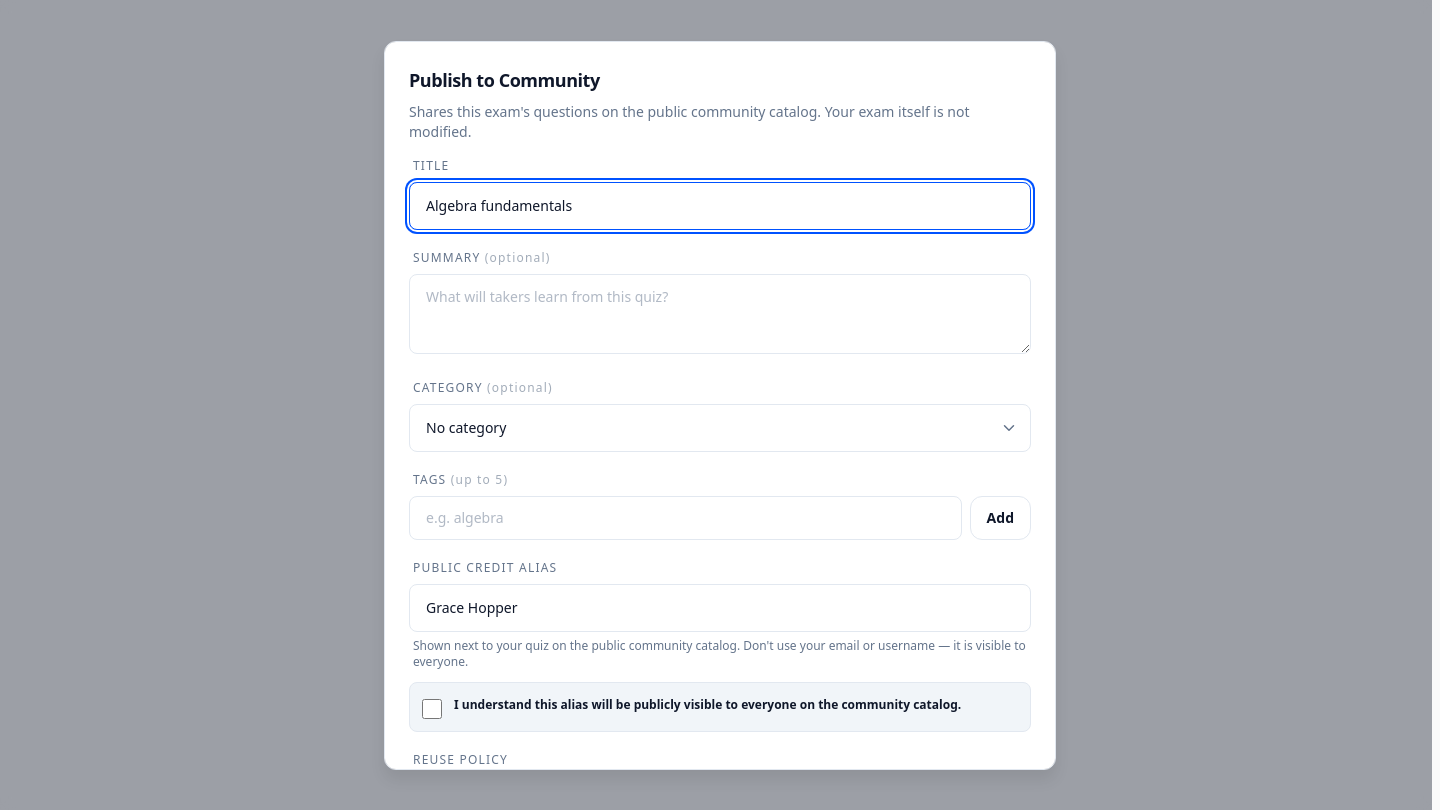
PublishToCommunityDialog › surfaces a publish-step failure and notes the saved-unpublished row
Click the checkbox labelled "publicly visible to everyone" at x=432, y=708, box [422,698,442,718]
(page scrolled)
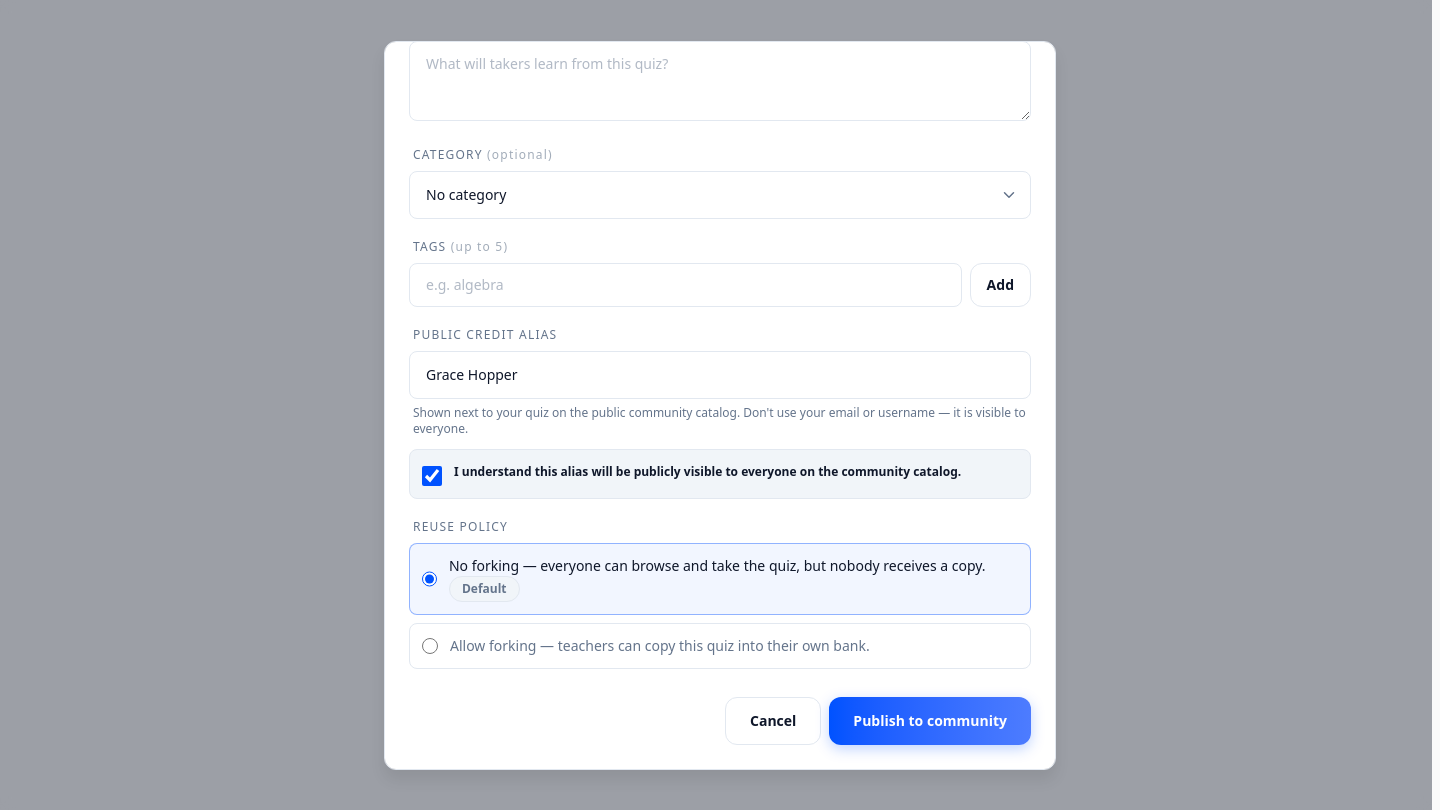
Click the button "Publish to community" at x=930, y=720, box [829,696,1031,744]
(page scrolled)
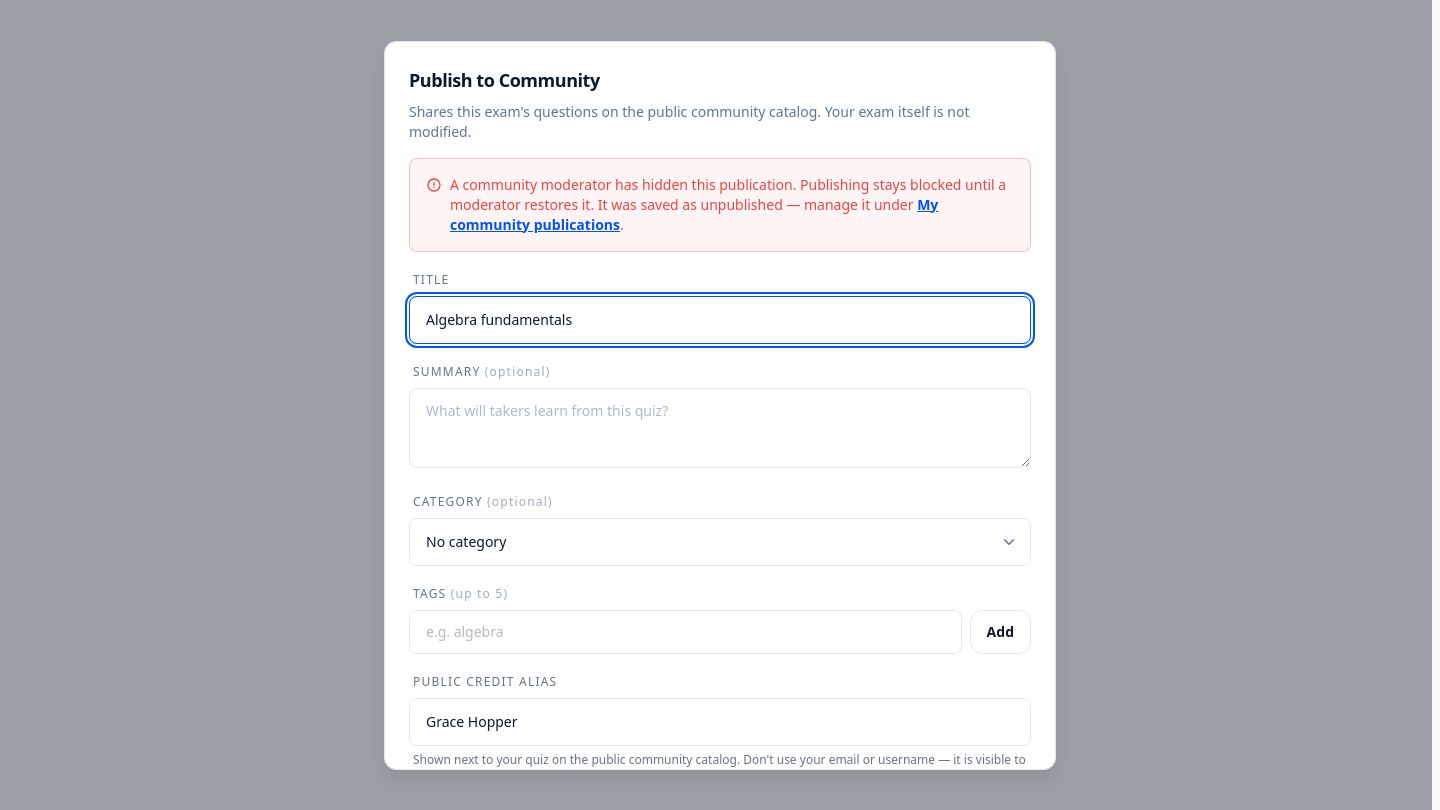
Now the message shows "moderator has hidden this publication", box [450,174,1006,214]
Now the message shows "saved as unpublished", box [598,194,914,214]
